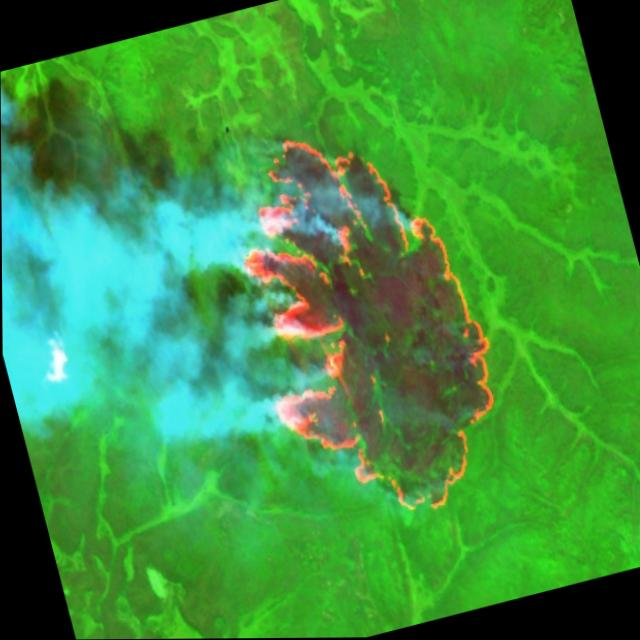fire: (206, 95, 529, 550)
